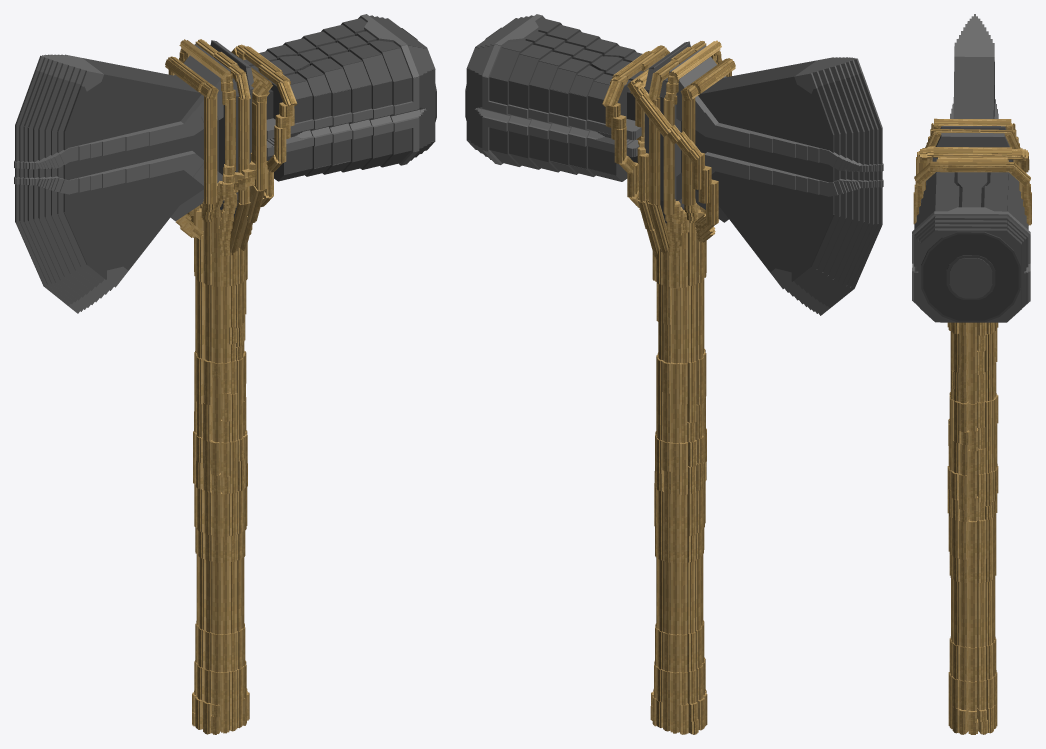
File: shtormbraker.obj
3 renders of one model, left to right at view 1: azimuth 30°, elevation 25°; view 2: azimuth 150°, elevation 25°; view 3: azimuth 270°, elevation 25°, orthographic. The views are drawn at different scales.
Parts seen in each view (by area): view 1: Object_1381, Object_1343, Object_1344, Object_1341, Object_1342, Object_1387, Object_41, Object_813, Object_101, Object_1328; view 2: Object_1381, Object_1344, Object_1343, Object_1341, Object_1387, Object_101, Object_41, Object_1326; view 3: Object_1381, Object_1122, Object_1215, Object_26, Object_1184, Object_1178, Object_1173, Object_1179, Object_733, Object_721, Object_405, Object_401 (+46 smaller).
Part boxes in pixels (<box>): Object_1381: <box>82,58,218,159</box>; Object_1343: <box>63,179,157,265</box>; Object_1344: <box>63,126,175,212</box>; Object_1341: <box>107,177,183,270</box>; Object_1342: <box>158,142,218,209</box>; Object_1387: <box>63,92,96,135</box>; Object_41: <box>146,151,195,177</box>; Object_813: <box>204,95,217,204</box>; Object_101: <box>146,121,194,145</box>; Object_1328: <box>278,146,312,174</box>; Object_1381: <box>681,60,816,163</box>; Object_1344: <box>714,106,834,214</box>; Object_1343: <box>741,183,834,267</box>; Object_1341: <box>720,179,793,272</box>; Object_1387: <box>802,94,834,138</box>; Object_101: <box>704,123,752,147</box>; Object_41: <box>705,152,752,179</box>; Object_1326: <box>588,146,622,175</box>; Object_1381: <box>953,56,994,118</box>; Object_1122: <box>941,136,1004,147</box>; Object_1215: <box>935,228,1006,322</box>; Object_26: <box>954,42,994,56</box>; Object_1184: <box>958,234,983,255</box>; Object_1178: <box>995,266,1018,289</box>; Object_1173: <box>923,265,946,288</box>; Object_1179: <box>958,299,983,320</box>; Object_733: <box>933,147,1011,156</box>; Object_721: <box>933,149,1011,153</box>; Object_405: <box>977,581,985,646</box>; Object_401: <box>960,581,968,646</box>.
Size of the model in its own units: 9.66 by 16.62 by 2.84.
Materials: 8 (8 with a texture image).
